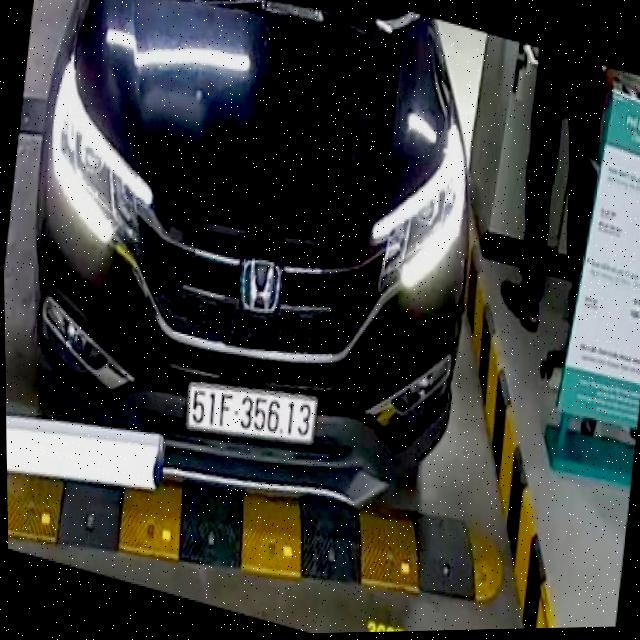car: (30, 0, 476, 520)
plate: (179, 377, 320, 450)
